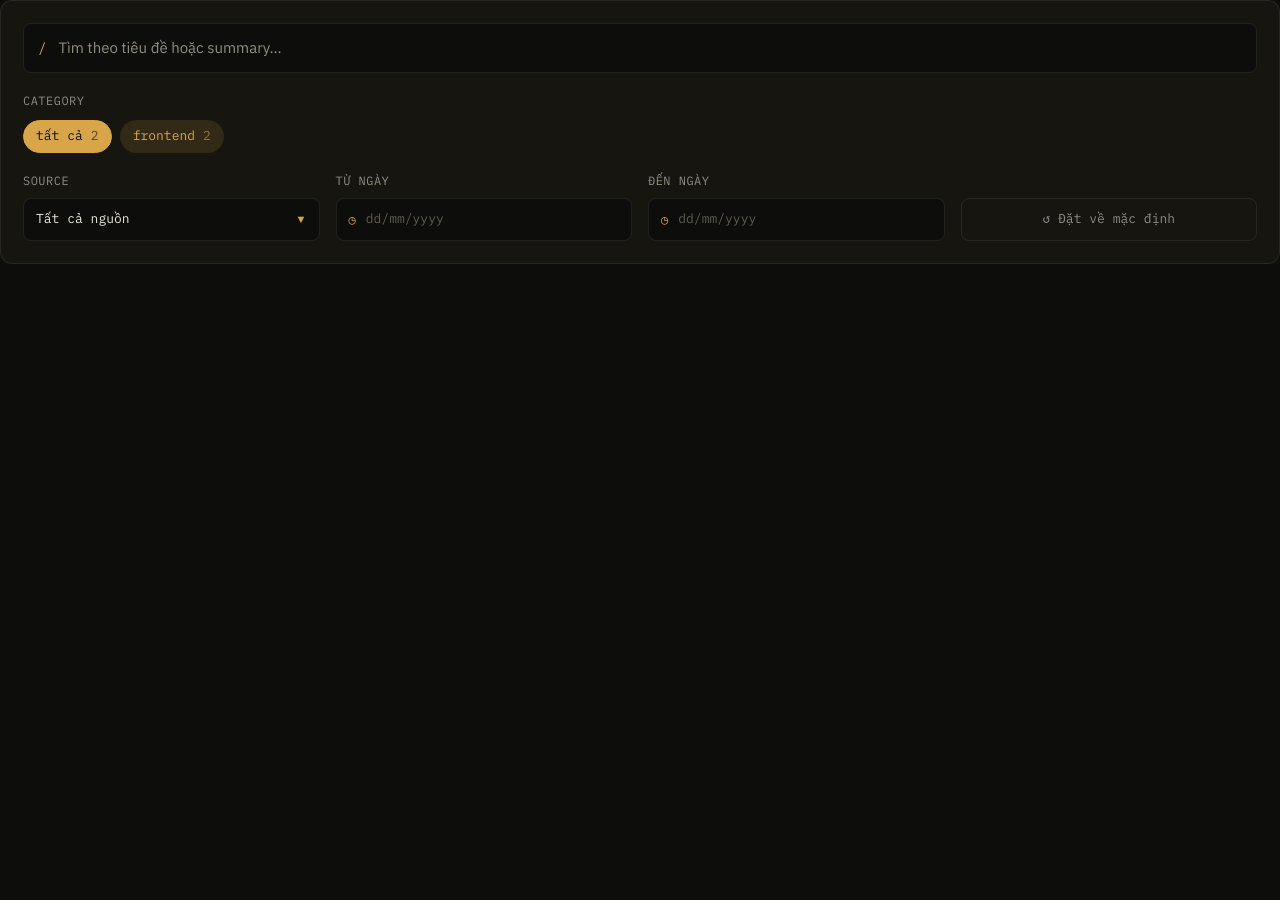
Test case: FilterPanel › opening the to picker closes the from picker
What coordinates should you click on to do the following:
click the button named "Từ ngày"
I would click on:
 (405, 219)
Its box is [336, 199, 631, 240].
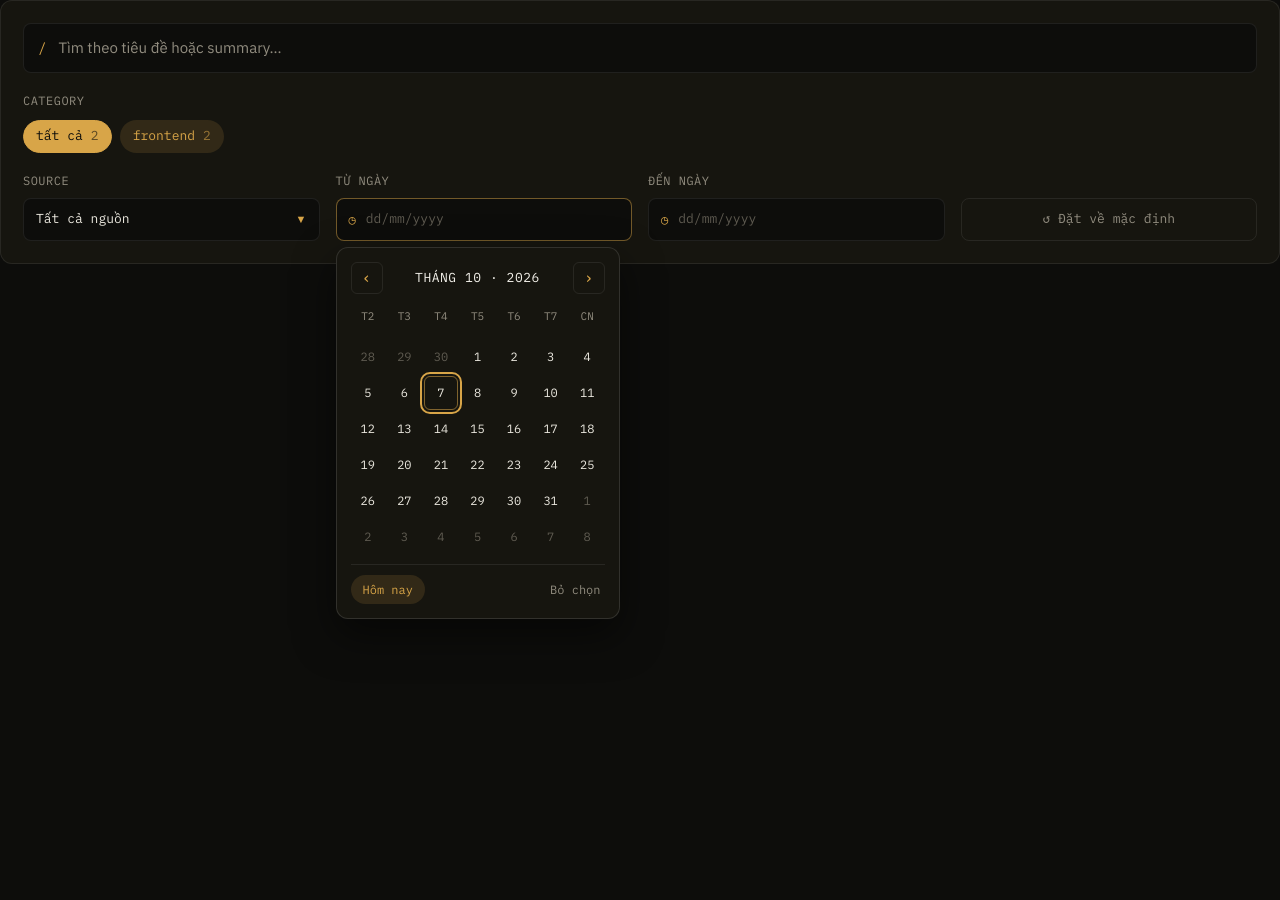
What coordinates should you click on to do the following:
click the button named "Đến ngày"
I would click on:
 (717, 219)
Its box is [649, 199, 944, 240].
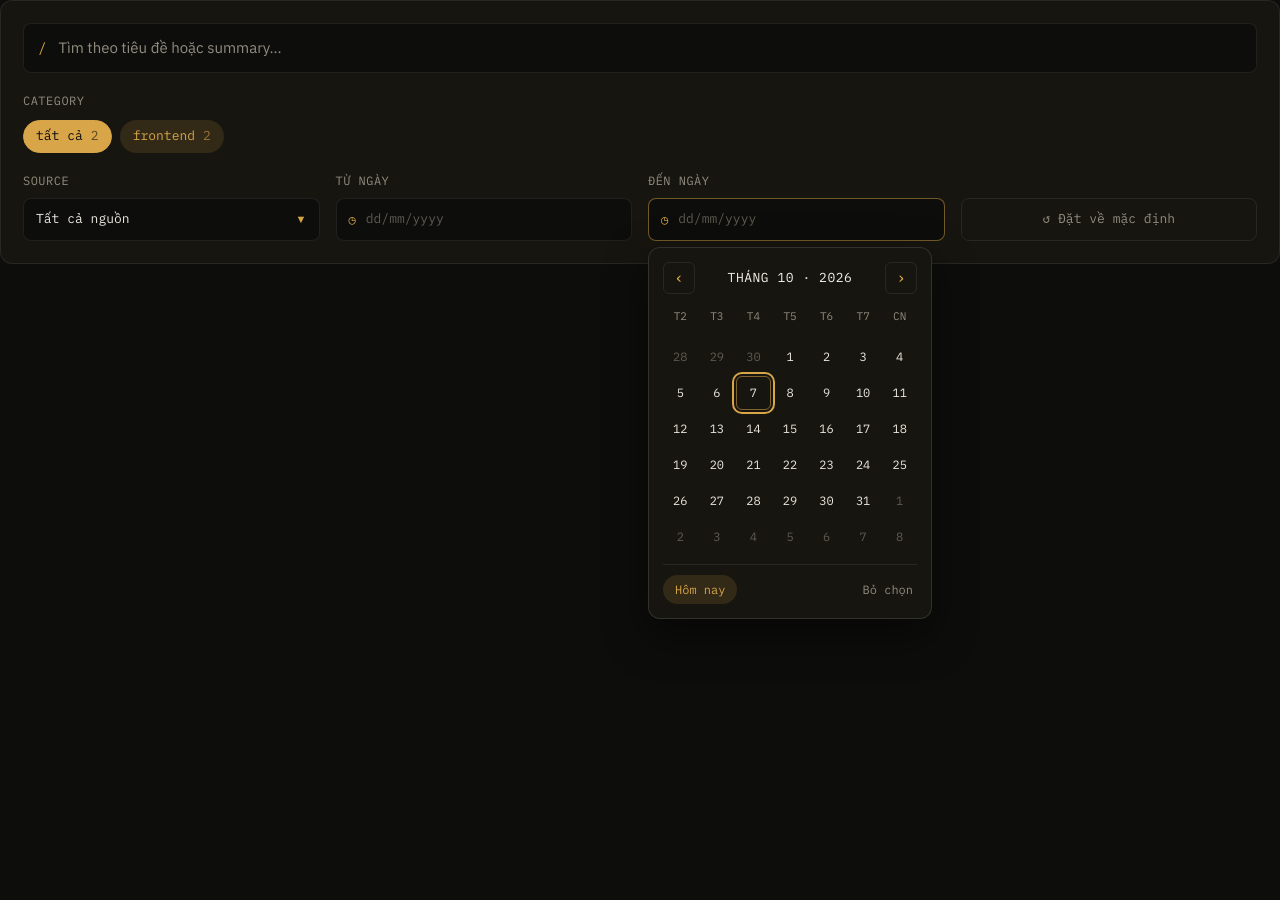
Now the dialog named "Đến ngày" is shown, box [648, 247, 932, 619]
